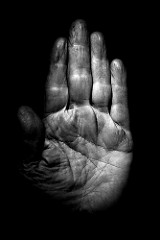palm: (42, 111, 133, 211)
